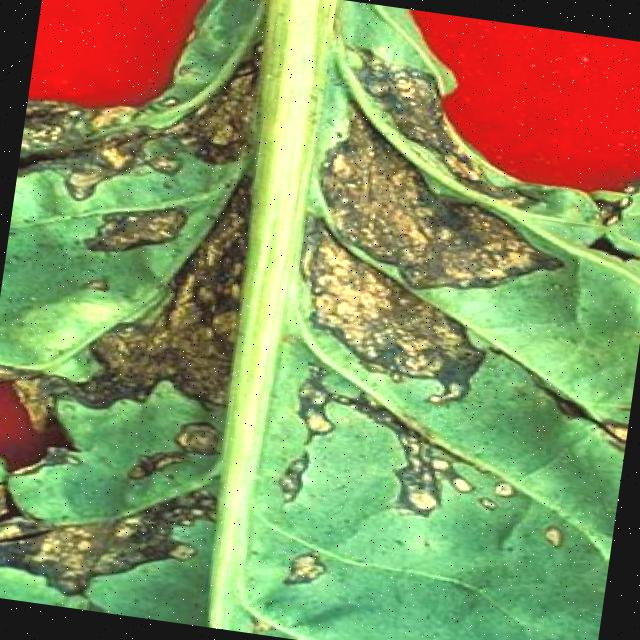Bacterial: (85, 134, 532, 433)
